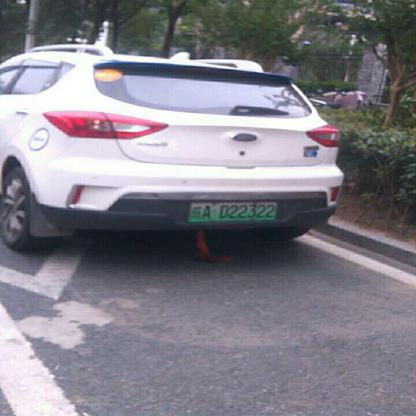lp: (189, 202, 276, 220)
